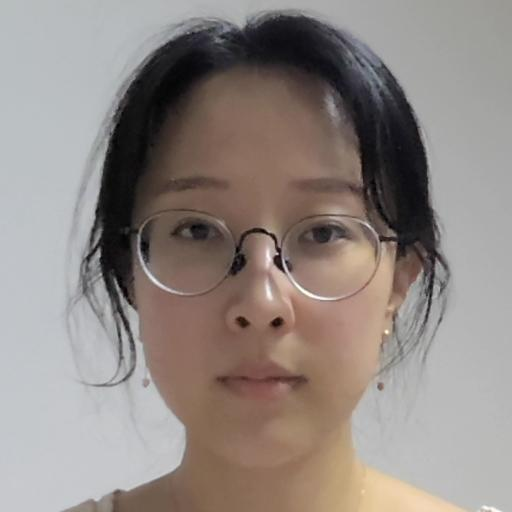no_glasses: (97, 19, 439, 477)
